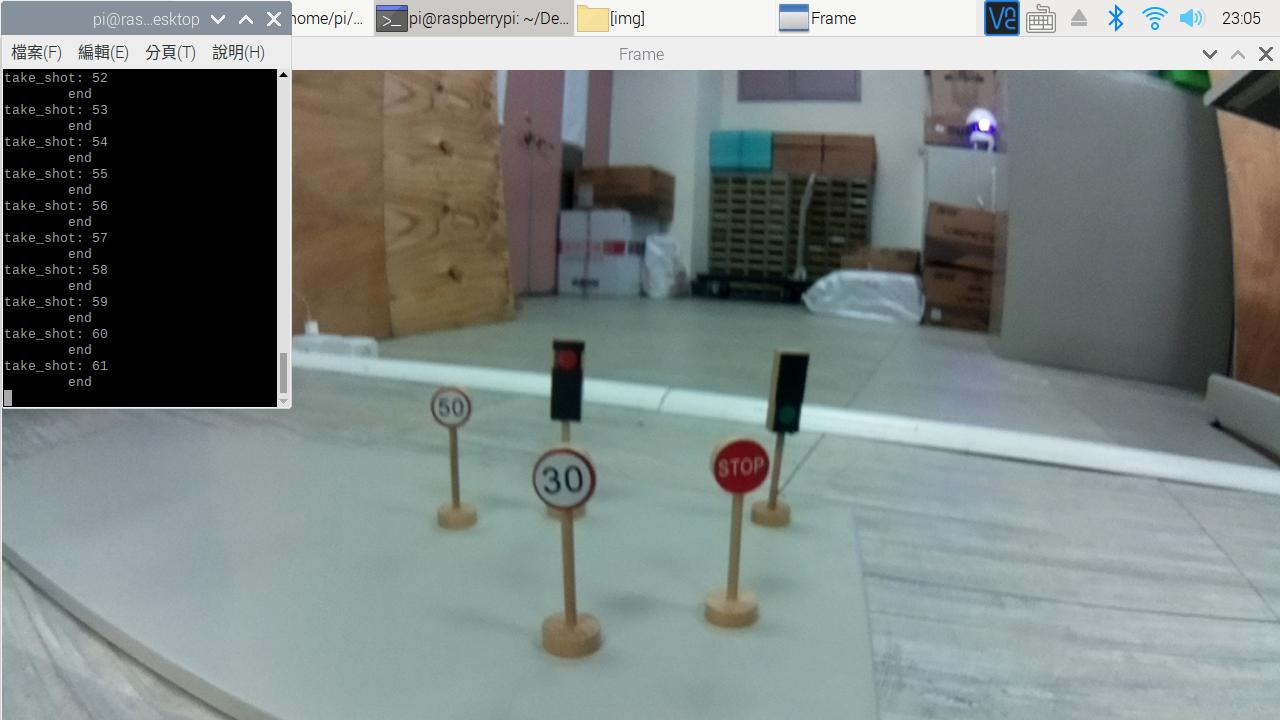Green: (762, 342, 817, 435)
Red: (550, 334, 588, 425)
Speed30: (529, 446, 603, 518)
Speed50: (424, 386, 480, 433)
Stop: (708, 435, 772, 498)
